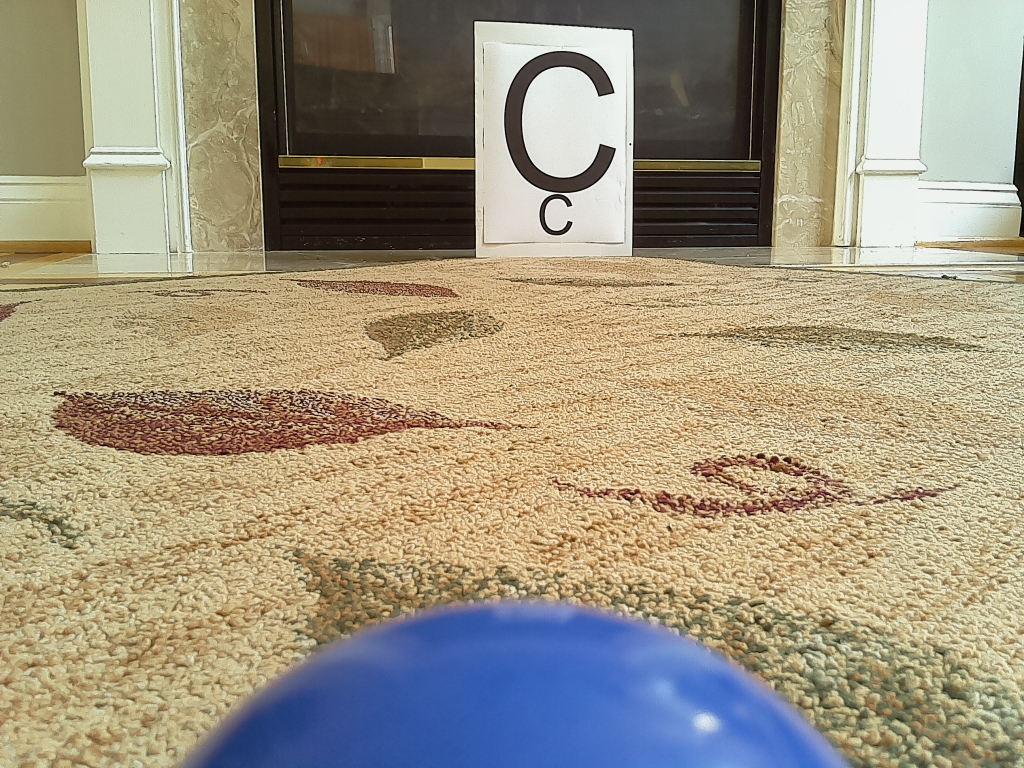letter: (504, 52, 616, 193)
